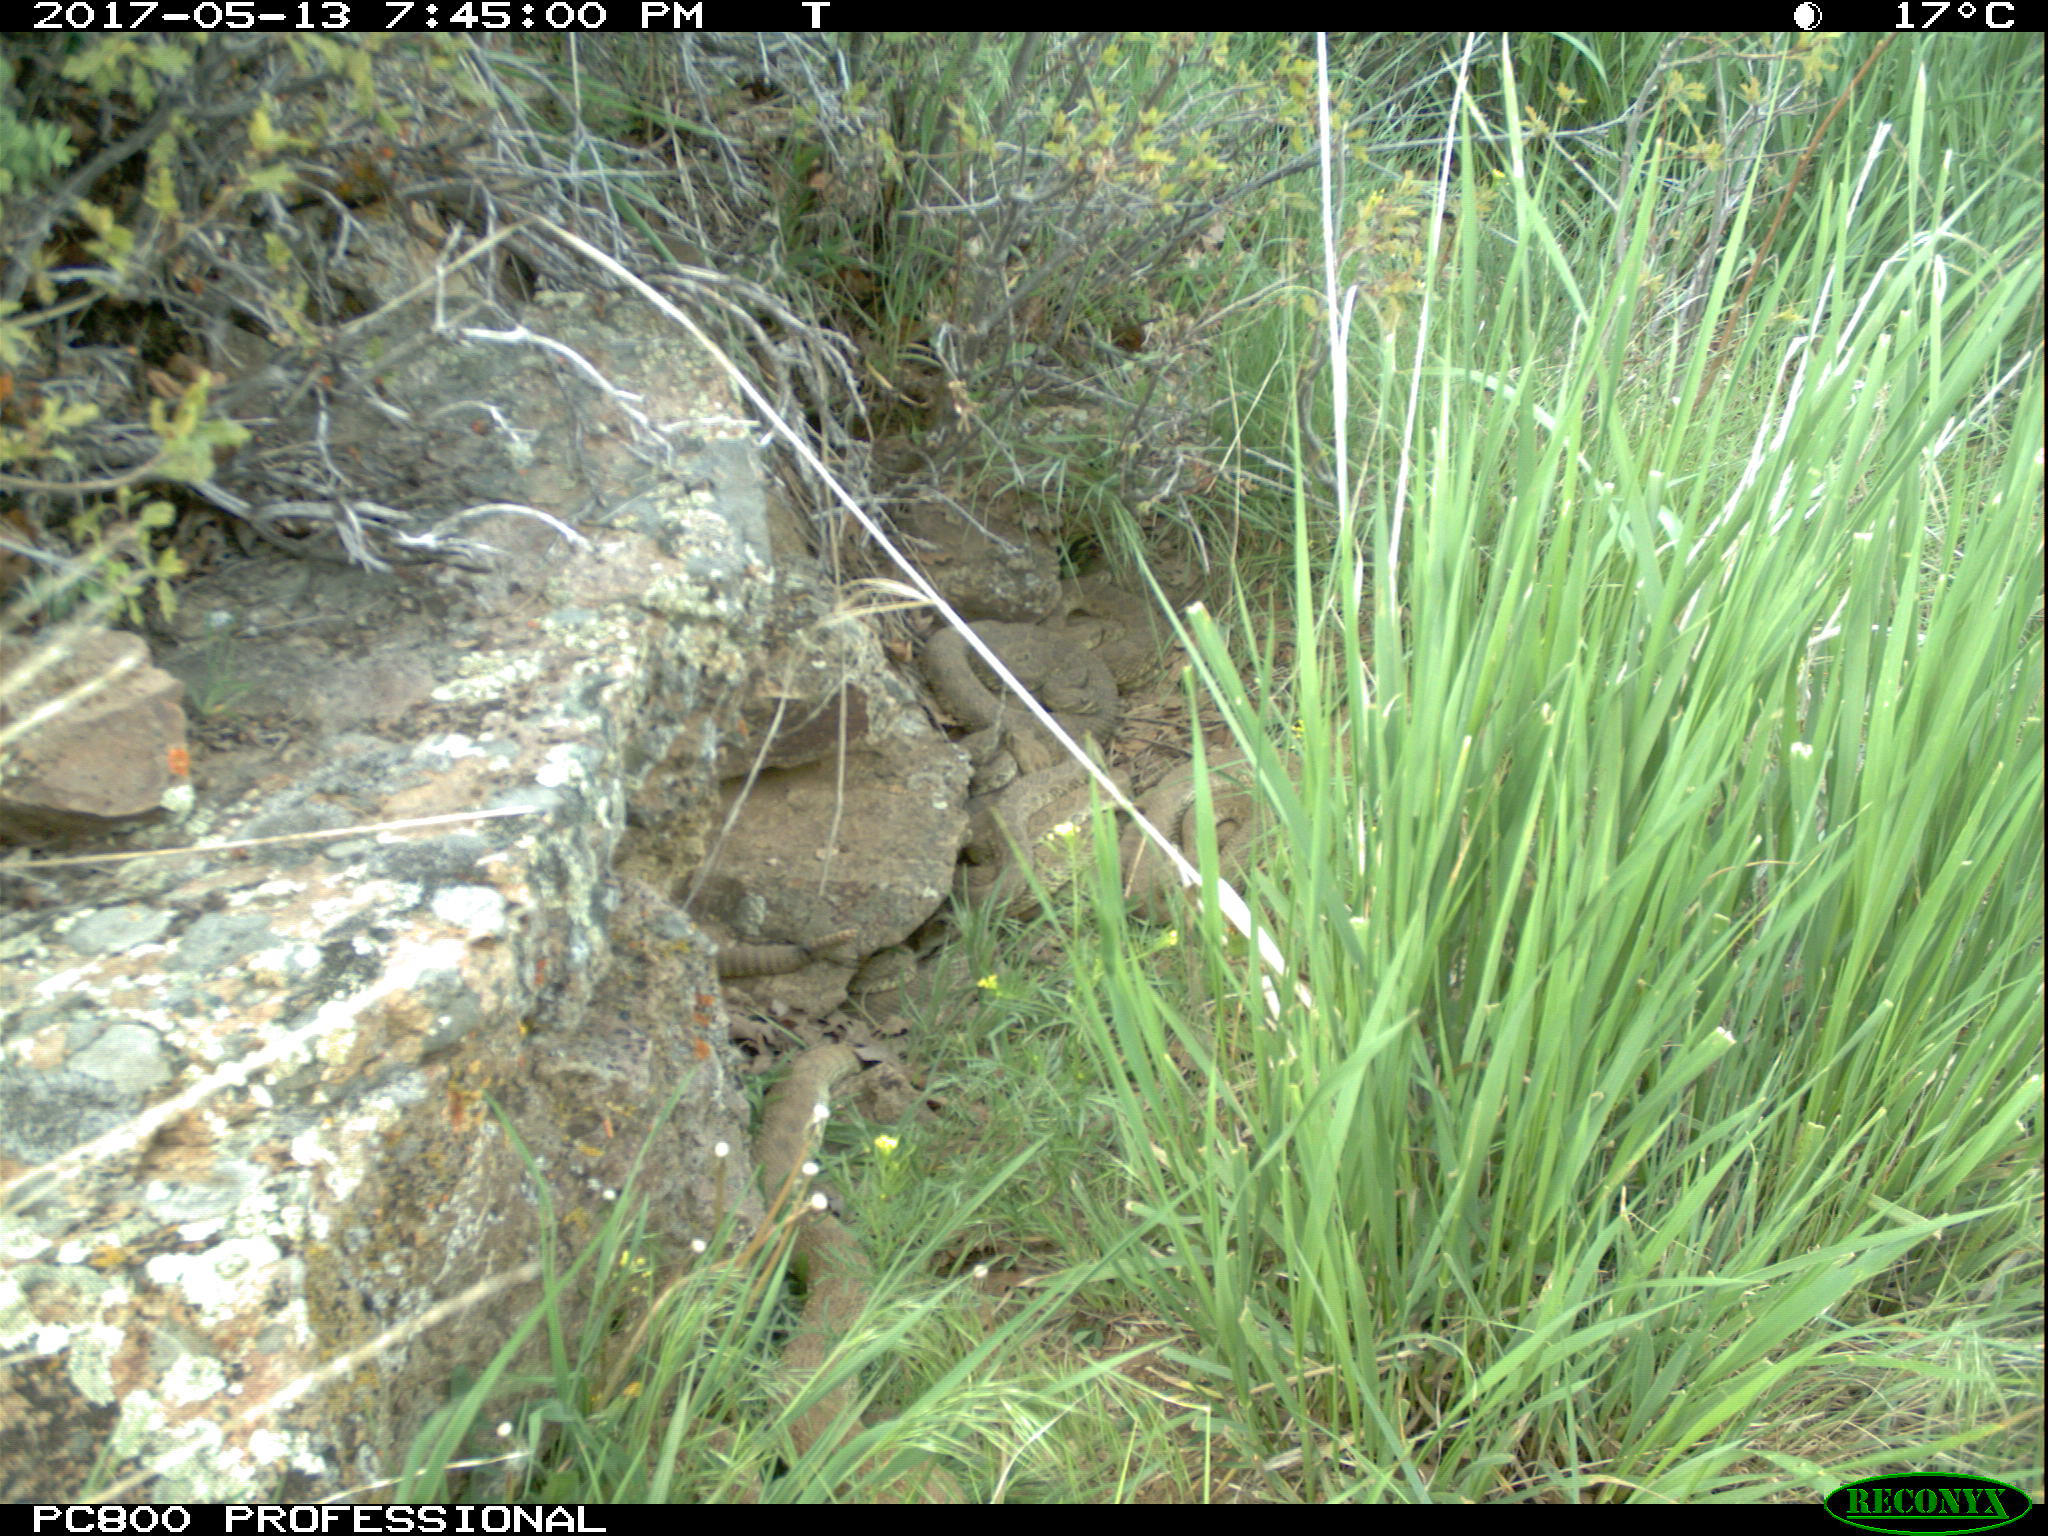snake: (743, 1041, 868, 1476), (922, 618, 1126, 762), (1134, 757, 1276, 891), (1040, 574, 1172, 705), (966, 766, 1084, 908), (708, 931, 880, 975)
